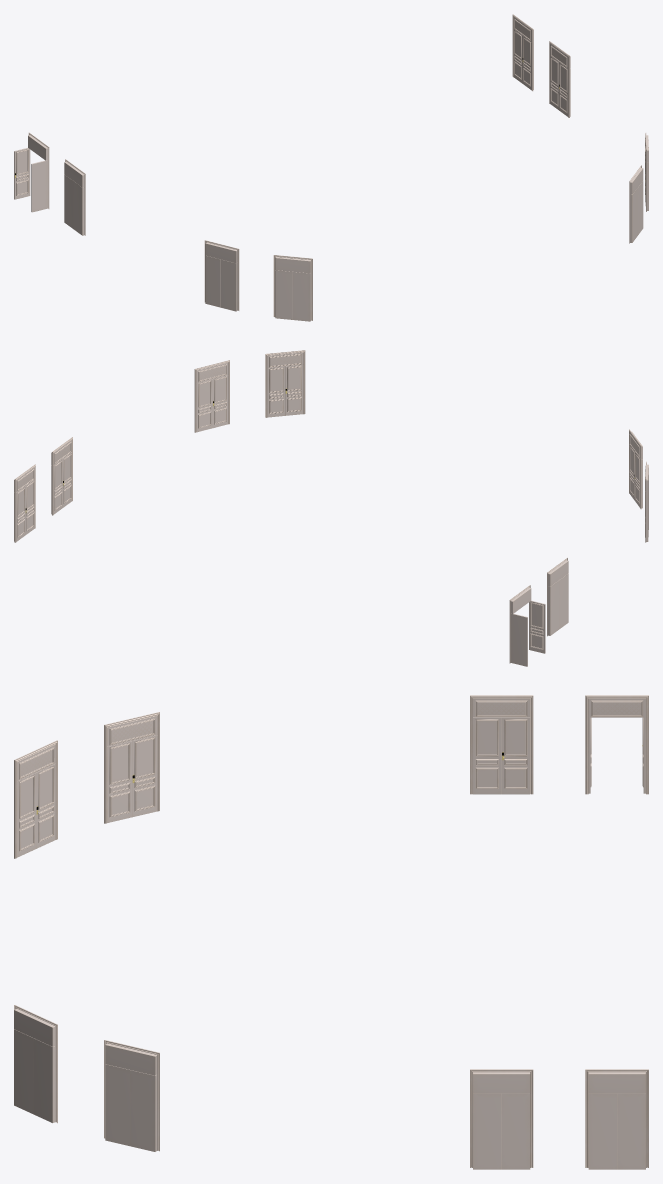
Rendered from DoorClosed.fbx.
The picture shows the model from 3 angles, top to bottom: view 1: azimuth 30°, elevation 25°; view 2: azimuth 150°, elevation 25°; view 3: azimuth 270°, elevation 25°; orthographic projection. The views are drawn at different scales.
Visible parts, largest first — view 1: DoorClosedF, DoorClosed; view 2: DoorClosed, DoorClosedF; view 3: DoorClosed, DoorClosedF.
Part boxes in pixels (box(x1,y1,x2,y2)): DoorClosedF: box(14, 132, 312, 321); DoorClosed: box(512, 14, 648, 243); DoorClosed: box(14, 350, 305, 542); DoorClosedF: box(509, 429, 648, 666); DoorClosed: box(14, 1005, 648, 1169); DoorClosedF: box(14, 695, 648, 858).
Size of the model in its own units: 2565 by 304 by 1774.
Materials: 1 (1 with a texture image).
